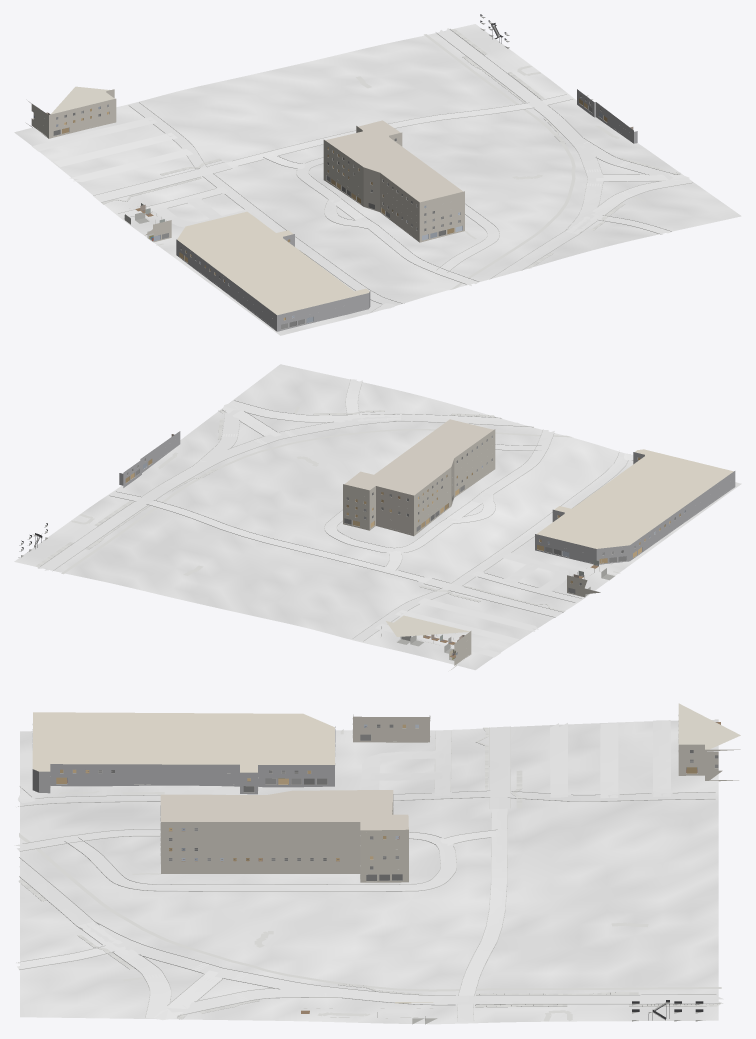
3 renders of one model, top to bottom at view 1: azimuth 30°, elevation 25°; view 2: azimuth 150°, elevation 25°; view 3: azimuth 270°, elevation 25°, orthographic. The views are drawn at different scales.
Parts seen in each view (by area): view 1: ground, roof_flat, concrete, wall_com, asphalt, curb, walk, glass_lit, glass, detail; view 2: ground, roof_flat, concrete, wall_com, asphalt, curb, walk, room, glass_lit, glass, detail; view 3: ground, roof_flat, wall_com, concrete, asphalt, curb, walk, glass, detail, glass_lit.
Boxes of the visible parts, x1,y1,x2,y2 form: ground: (14, 24, 741, 335); roof_flat: (51, 86, 462, 315); concrete: (32, 94, 671, 311); wall_com: (26, 89, 637, 331); asphalt: (93, 28, 691, 276); curb: (93, 29, 692, 312); walk: (101, 28, 680, 289); glass_lit: (33, 98, 607, 322); glass: (53, 94, 601, 329); detail: (34, 16, 615, 329); ground: (14, 364, 741, 670); roof_flat: (344, 419, 733, 636); concrete: (110, 379, 633, 657); wall_com: (119, 429, 735, 669); asphalt: (38, 400, 562, 617); curb: (38, 379, 633, 641); walk: (36, 406, 620, 611); room: (147, 434, 614, 660); glass_lit: (125, 457, 685, 655); glass: (127, 435, 675, 593); detail: (18, 435, 685, 655); ground: (20, 720, 718, 1024); roof_flat: (32, 703, 740, 1003); wall_com: (32, 716, 740, 882); concrete: (14, 720, 715, 1022); asphalt: (19, 726, 723, 1020); curb: (16, 726, 722, 1021); walk: (18, 727, 721, 1021); glass: (98, 724, 718, 880); detail: (32, 714, 718, 1021); glass_lit: (56, 724, 696, 860).
Bounding box in the file's own units: 262 × 24.89 × 260.
